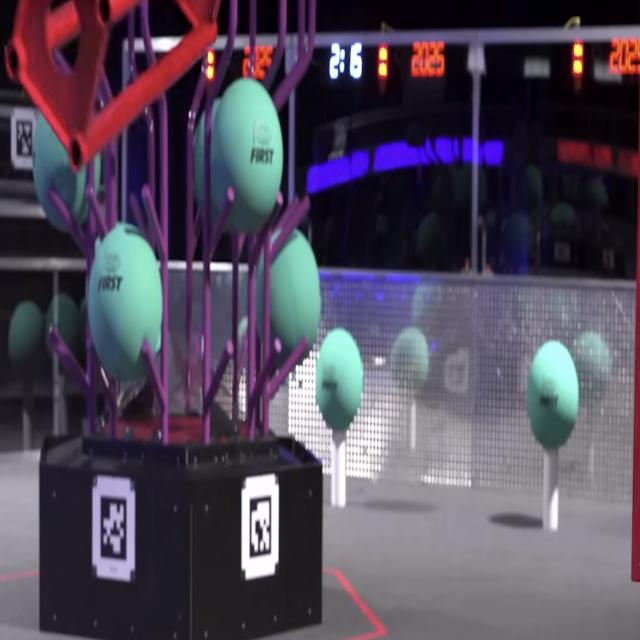Algae: (88, 222, 162, 385), (208, 80, 284, 234), (255, 226, 320, 361), (32, 111, 101, 231), (526, 340, 579, 450), (316, 327, 364, 432), (194, 96, 222, 214), (9, 301, 45, 387)
Coral: (541, 449, 560, 529), (332, 432, 346, 510), (23, 387, 33, 451)
Reef: (48, 325, 90, 400), (48, 187, 88, 256), (271, 196, 311, 262), (268, 336, 309, 400), (252, 340, 282, 410), (254, 191, 282, 260), (207, 340, 234, 407), (210, 186, 234, 259), (141, 338, 164, 408), (87, 337, 110, 404), (142, 187, 162, 254), (86, 184, 106, 239), (273, 196, 299, 232), (130, 195, 146, 238), (191, 324, 204, 376), (228, 0, 238, 49), (308, 0, 316, 56), (128, 10, 135, 72), (248, 1, 256, 52), (278, 1, 286, 51), (298, 1, 305, 56), (140, 0, 148, 45), (240, 332, 248, 376), (195, 213, 202, 239), (238, 235, 246, 250)
